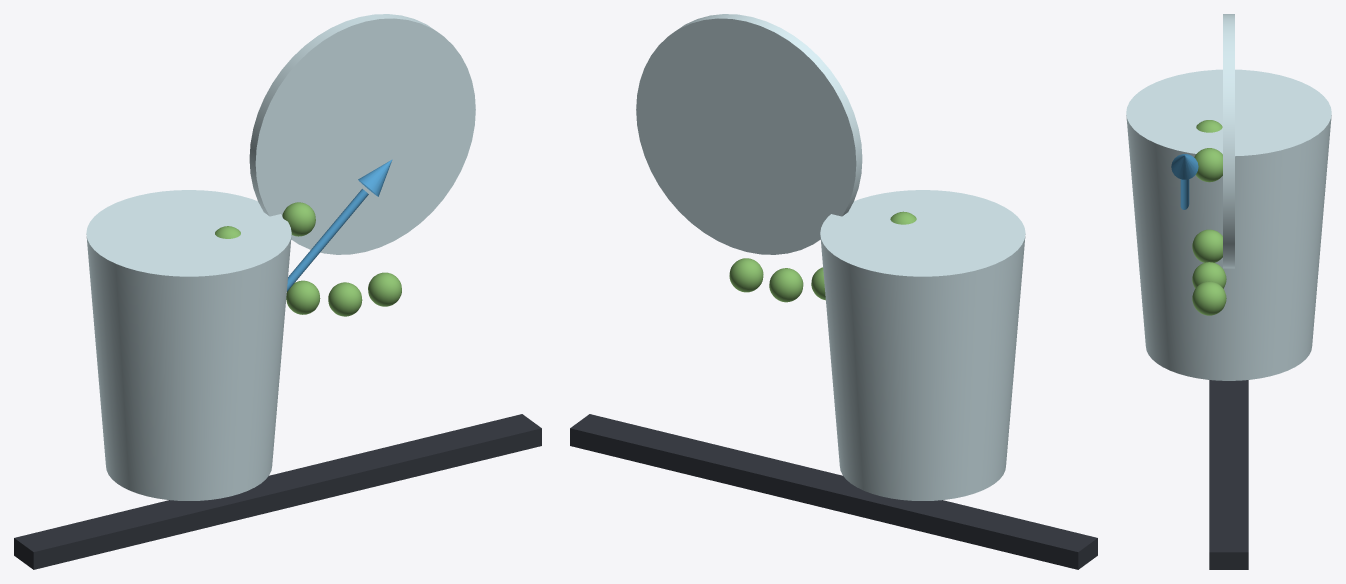
Rendered from chem-states-evaporation-condensation.glb.
3 renders of one model, left to right at view 1: azimuth 30°, elevation 25°; view 2: azimuth 150°, elevation 25°; view 3: azimuth 270°, elevation 25°, orthographic.
Visible parts, largest first — view 1: evaporation-condensation-beaker-glass, cool-condensing-plate, states-lab-bench, vapor-up-condensation-down-loop-shaft, evaporating-fast-particles-particle-3, evaporating-fast-particles-particle-4, evaporating-fast-particles-particle-2, evaporating-fast-particles-particle-7; view 2: evaporation-condensation-beaker-glass, cool-condensing-plate, states-lab-bench, evaporating-fast-particles-particle-4, evaporating-fast-particles-particle-3; view 3: evaporation-condensation-beaker-glass, states-lab-bench, cool-condensing-plate, evaporating-fast-particles-particle-4, evaporating-fast-particles-particle-2, evaporating-fast-particles-particle-7, evaporating-fast-particles-particle-3, vapor-up-condensation-down-loop-head, vapor-up-condensation-down-loop-shaft.
Part boxes in pixels (x1,y1,x2,y2): evaporation-condensation-beaker-glass: (86,190,291,500); cool-condensing-plate: (249,14,475,254); states-lab-bench: (14,414,541,569); vapor-up-condensation-down-loop-shaft: (287,189,368,291); evaporating-fast-particles-particle-3: (328,282,362,316); evaporating-fast-particles-particle-4: (368,272,401,306); evaporating-fast-particles-particle-2: (286,280,320,314); evaporating-fast-particles-particle-7: (282,202,315,236); evaporation-condensation-beaker-glass: (820,190,1025,500); cool-condensing-plate: (636,14,862,254); states-lab-bench: (570,414,1097,569); evaporating-fast-particles-particle-4: (729,258,763,292); evaporating-fast-particles-particle-3: (769,268,803,302); evaporation-condensation-beaker-glass: (1126,69,1331,380); states-lab-bench: (1209,380,1248,569); cool-condensing-plate: (1223,14,1234,268); evaporating-fast-particles-particle-4: (1192,281,1226,315); evaporating-fast-particles-particle-2: (1192,229,1222,262); evaporating-fast-particles-particle-7: (1194,148,1222,182); evaporating-fast-particles-particle-3: (1192,262,1226,288); vapor-up-condensation-down-loop-head: (1171,154,1198,179); vapor-up-condensation-down-loop-shaft: (1180,179,1189,209).
Size of what is drawn, in the model's own units: 2.4 by 2.08 by 0.84.
